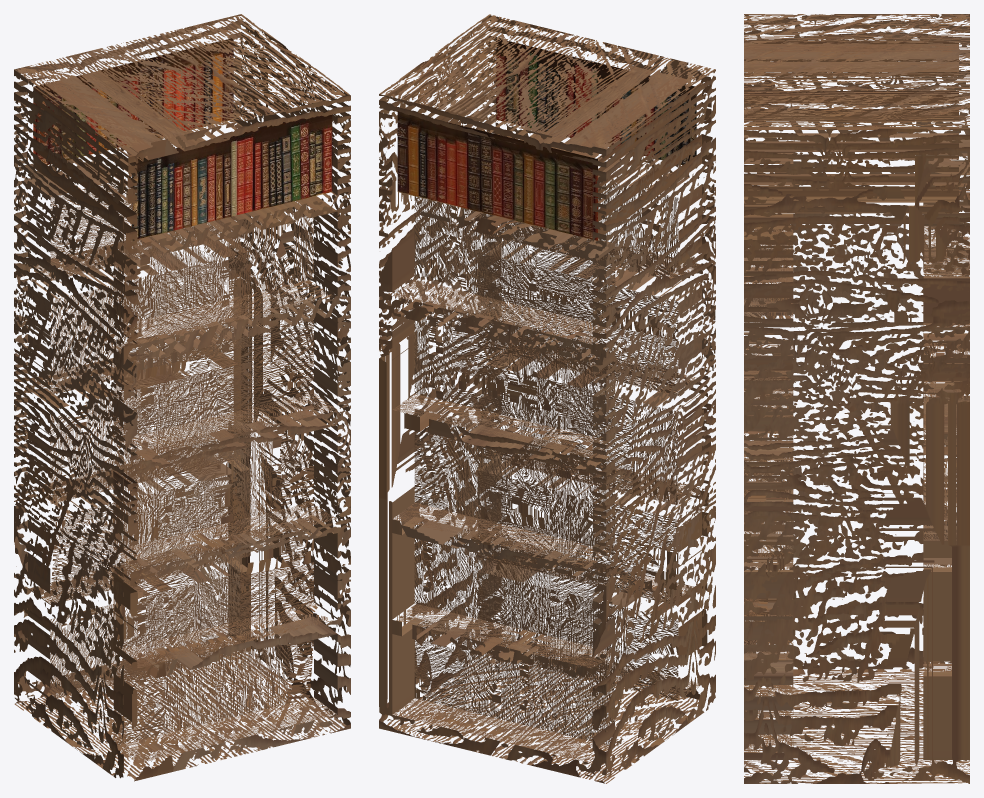
Rendered from colonnaNew.fbx.
3 views of the same model, side by side, from view 1: azimuth 30°, elevation 25°; view 2: azimuth 150°, elevation 25°; view 3: azimuth 270°, elevation 25° (orthographic). The views are drawn at different scales.
Visible parts, largest first — view 1: Cube.003; view 2: Cube.003; view 3: Cube.003.
Part boxes in pixels (x1,y1,x2,y2): Cube.003: (14,14,350,781); Cube.003: (379,14,715,783); Cube.003: (744,14,969,783).
Bounding box in the file's own units: 300 × 800 × 250.
